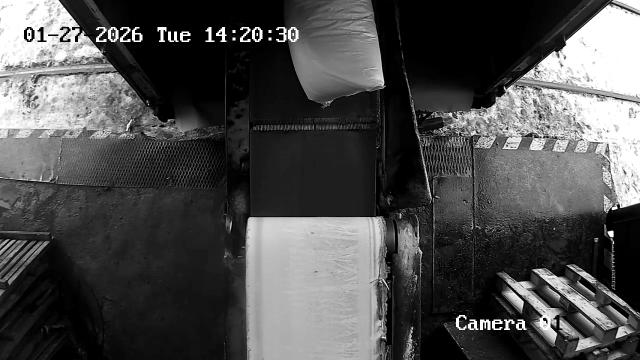bag: (284, 0, 385, 106)
